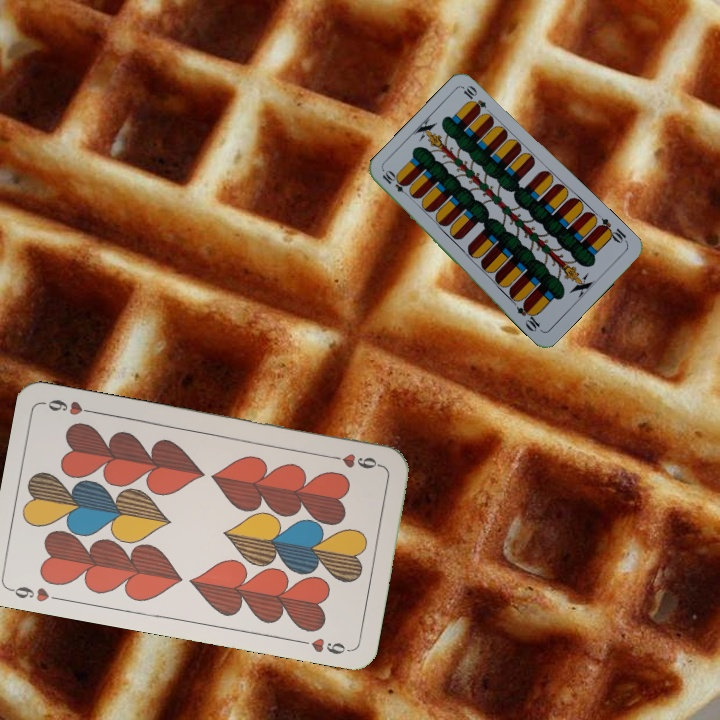E10: (378, 167, 413, 200), (594, 214, 630, 246)
H9: (7, 582, 66, 605), (326, 449, 384, 472)
